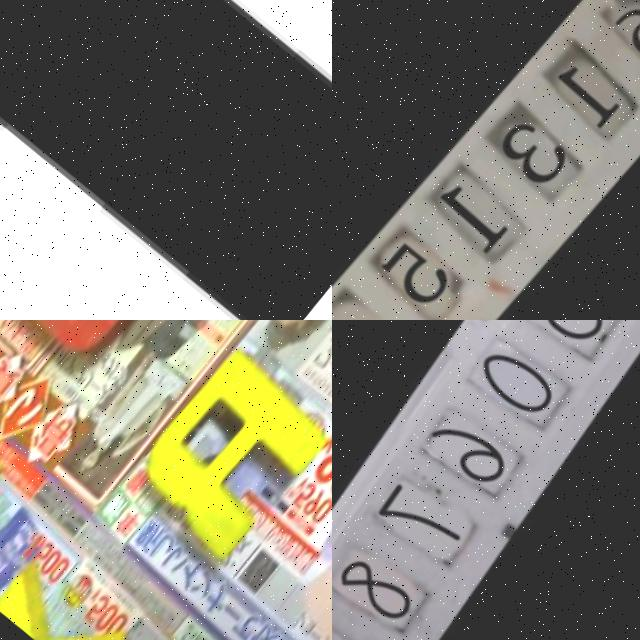0: (454, 327, 568, 438)
1: (414, 159, 525, 265), (533, 40, 640, 142)
3: (471, 97, 587, 209)
4: (332, 282, 409, 320)
5: (356, 218, 467, 320), (501, 320, 619, 365)
6: (404, 394, 520, 506), (591, 0, 640, 81)
7: (359, 464, 471, 572)
8: (332, 533, 423, 637)
L: (0, 0, 332, 320)
O: (0, 320, 189, 375)
R: (97, 346, 332, 582)
